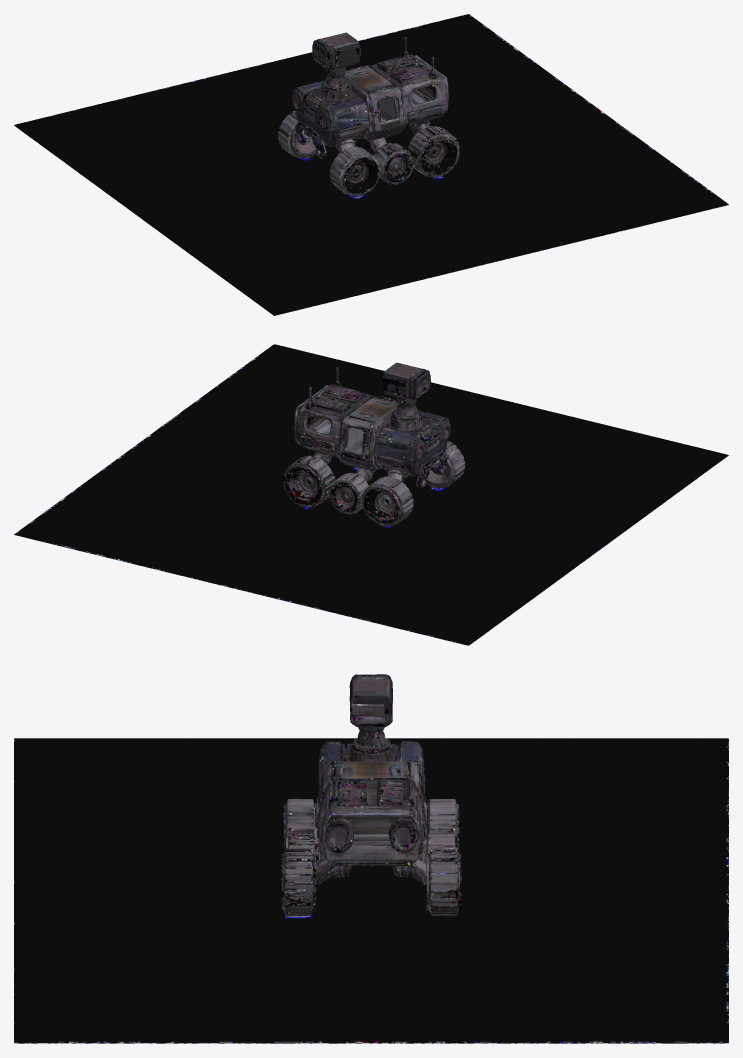
The model's file is dekor-08.glb.
3 views of the same model, one above another, from view 1: azimuth 30°, elevation 25°; view 2: azimuth 150°, elevation 25°; view 3: azimuth 270°, elevation 25° (orthographic). The views are drawn at different scales.
Visible parts, largest first — view 1: geometry_0; view 2: geometry_0; view 3: geometry_0.
Boxes of the visible parts, left/top/right/bottom form: geometry_0: left=14, top=14, right=728, bottom=315; geometry_0: left=14, top=344, right=728, bottom=645; geometry_0: left=14, top=674, right=728, bottom=1043.
Size of the model in its own units: 1 by 0.2809 by 0.9911.
1 material, 1 textured.
